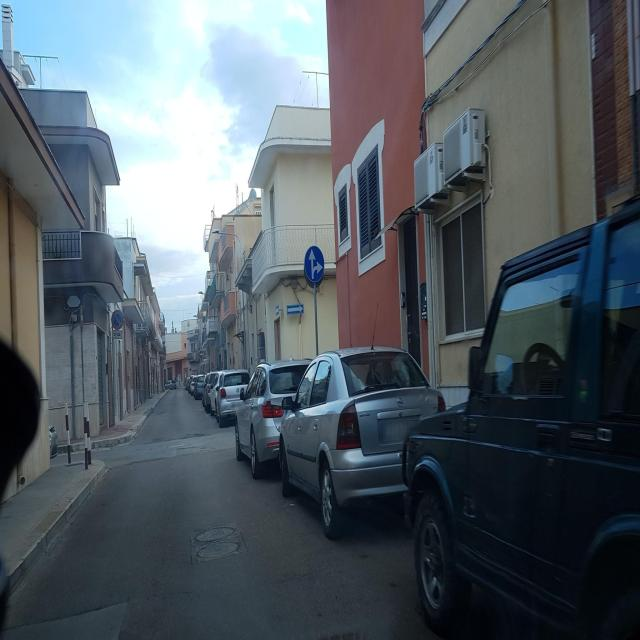forb_stopping: (112, 310, 124, 329)
